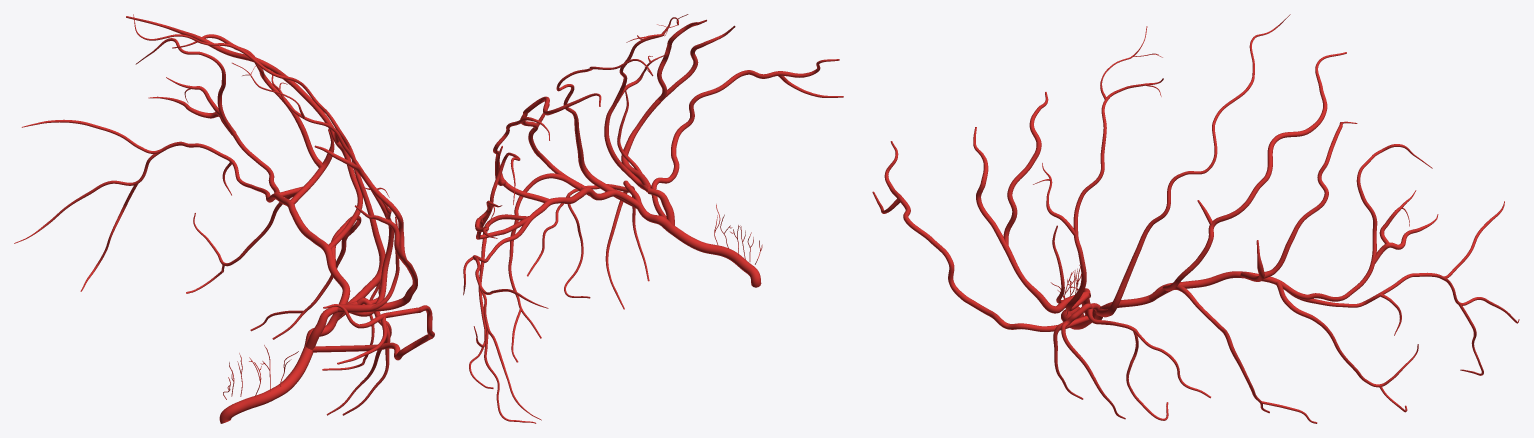
File: circulatorio-middle-cerebral-artery-m1-segment-l.glb
The picture shows the model from 3 angles, left to right: view 1: azimuth 30°, elevation 25°; view 2: azimuth 150°, elevation 25°; view 3: azimuth 270°, elevation 25°; orthographic projection. The views are drawn at different scales.
Visible parts, largest first — view 1: Prefrontal artery.l, Lateral frontobasal artery.l, Artery of central sulcus.l, Temporo-occipital branch.l, Postcentral arterial branch.l, Artery of precentral sulcus.l, Posterior parietal artery.l, Middle cerebral artery (M1-segment).l, Parietal branches of middle cerebral artery.l, Middle cerebral artery (M3 segment).l, Anterior temporal branch.l, Temporal branches of middle cerebral artery.l (+2 smaller); view 2: Lateral frontobasal artery.l, Prefrontal artery.l, Artery of precentral sulcus.l, Anterior temporal branch.l, Artery of central sulcus.l, Middle cerebral artery (M3 segment).l, Temporo-occipital branch.l, Middle cerebral artery (M1-segment).l, Posterior parietal artery.l, Postcentral arterial branch.l, Temporal branches of middle cerebral artery.l, Parietal branches of middle cerebral artery.l (+2 smaller); view 3: Prefrontal artery.l, Artery of precentral sulcus.l, Anterior temporal branch.l, Posterior parietal artery.l, Lateral frontobasal artery.l, Postcentral arterial branch.l, Artery of central sulcus.l, Temporo-occipital branch.l, Parietal branches of middle cerebral artery.l, Middle cerebral artery (M3 segment).l, Temporal branches of middle cerebral artery.l, Posterior temporal branch.l.
Part boxes in pixels (box(x1,y1,x2,y2)): Prefrontal artery.l: box(314, 145, 417, 312); Lateral frontobasal artery.l: box(312, 304, 434, 364); Artery of central sulcus.l: box(133, 14, 385, 319); Temporo-occipital branch.l: box(14, 119, 240, 291); Postcentral arterial branch.l: box(126, 16, 362, 248); Artery of precentral sulcus.l: box(232, 62, 399, 316); Posterior parietal artery.l: box(135, 38, 279, 193); Middle cerebral artery (M1-segment).l: box(219, 347, 313, 423); Parietal branches of middle cerebral artery.l: box(172, 34, 334, 204); Middle cerebral artery (M3 segment).l: box(238, 179, 350, 314); Anterior temporal branch.l: box(322, 281, 391, 415); Temporal branches of middle cerebral artery.l: box(250, 216, 361, 339); Lateral frontobasal artery.l: box(651, 59, 843, 218); Prefrontal artery.l: box(621, 19, 735, 192); Artery of precentral sulcus.l: box(604, 14, 688, 191); Anterior temporal branch.l: box(527, 180, 649, 309); Artery of central sulcus.l: box(556, 59, 653, 208); Middle cerebral artery (M3 segment).l: box(485, 187, 640, 262); Temporo-occipital branch.l: box(472, 255, 548, 423); Middle cerebral artery (M1-segment).l: box(669, 226, 761, 287); Posterior parietal artery.l: box(475, 152, 530, 239); Postcentral arterial branch.l: box(520, 93, 601, 188); Temporal branches of middle cerebral artery.l: box(508, 173, 589, 362); Parietal branches of middle cerebral artery.l: box(493, 117, 549, 202); Prefrontal artery.l: box(973, 92, 1089, 313); Artery of precentral sulcus.l: box(1033, 26, 1163, 311); Anterior temporal branch.l: box(1053, 303, 1210, 420); Posterior parietal artery.l: box(1278, 144, 1438, 301); Lateral frontobasal artery.l: box(872, 141, 1089, 331); Postcentral arterial branch.l: box(1162, 52, 1346, 290); Artery of central sulcus.l: box(1096, 14, 1290, 317); Temporo-occipital branch.l: box(1362, 201, 1519, 375); Parietal branches of middle cerebral artery.l: box(1240, 121, 1357, 281); Middle cerebral artery (M3 segment).l: box(1099, 271, 1363, 309); Temporal branches of middle cerebral artery.l: box(1149, 284, 1317, 423); Posterior temporal branch.l: box(1276, 281, 1418, 412).
Size of the model in its own units: 0.062 by 0.1046 by 0.1733.
